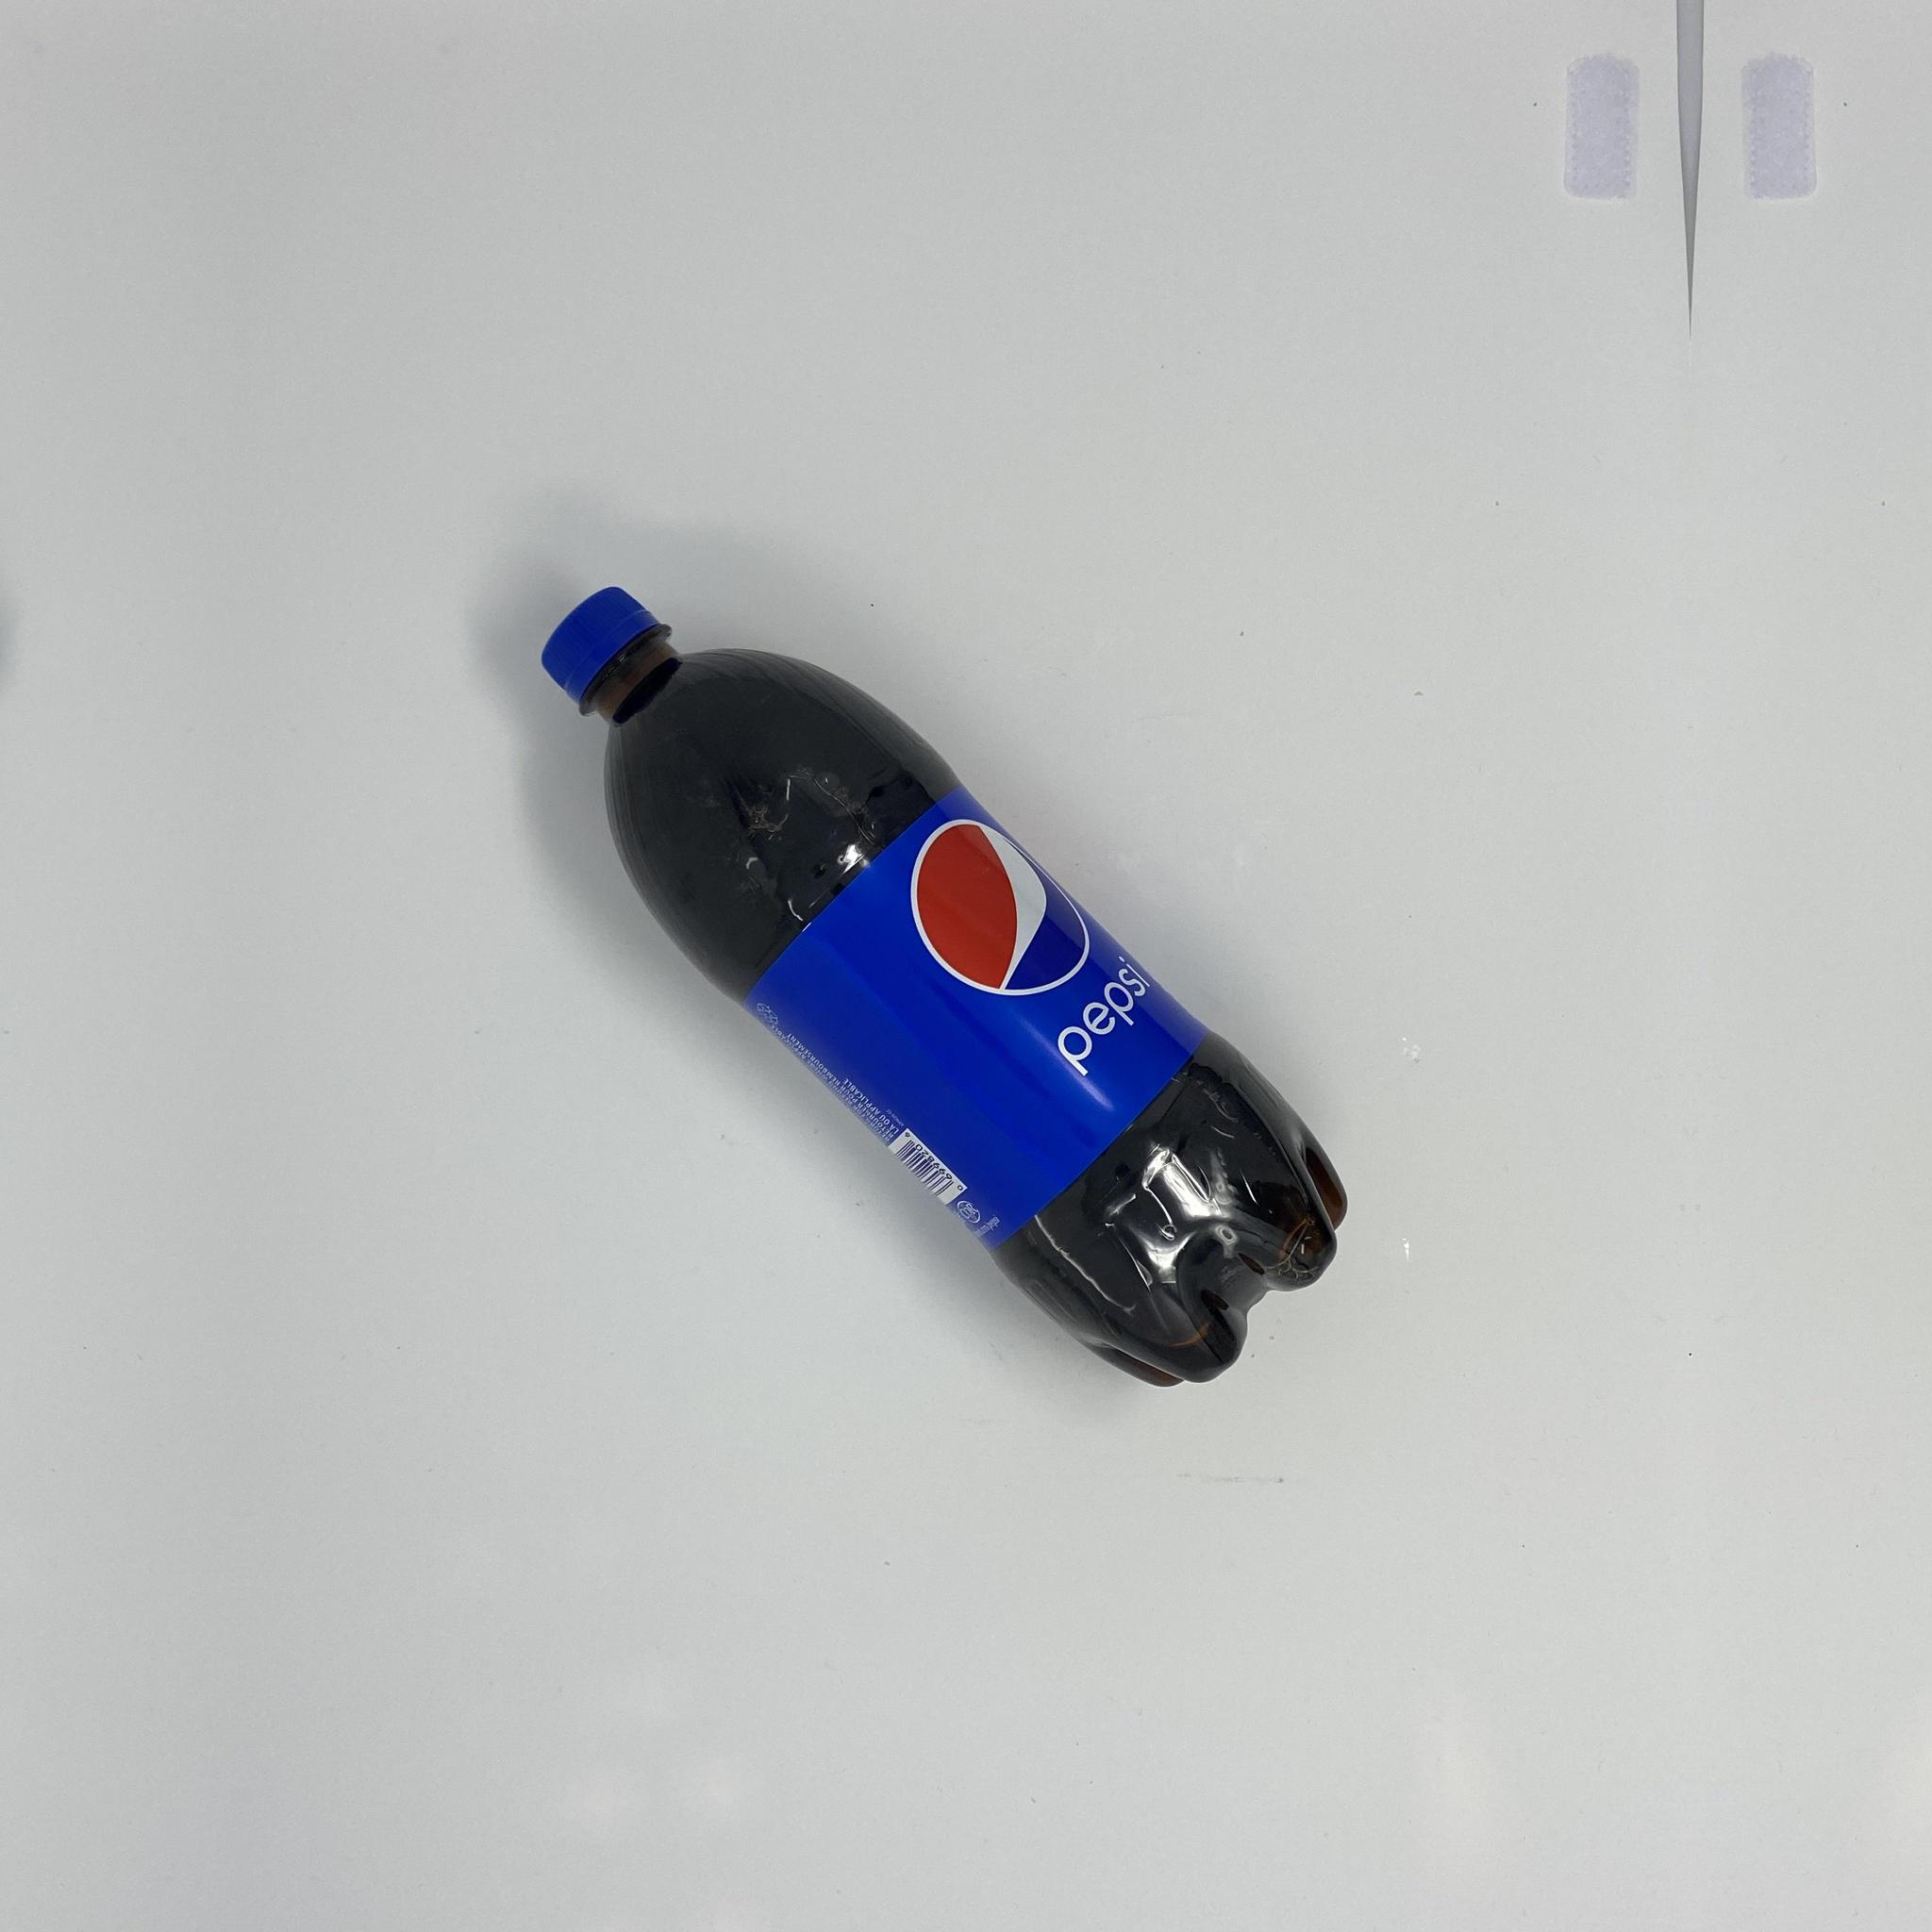PET: (538, 582, 1348, 1389)
pepsi: (538, 582, 1348, 1389)
plastic: (538, 582, 1348, 1389)
soft-drink: (538, 582, 1348, 1389)
